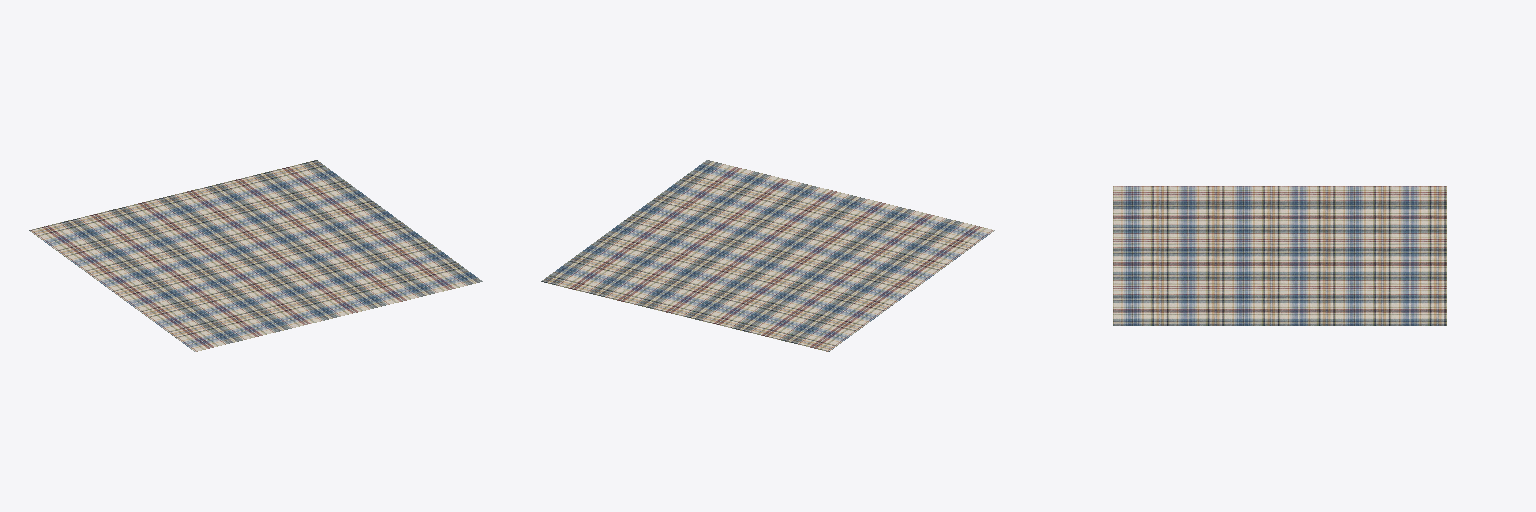
3 renders of one model, left to right at view 1: azimuth 30°, elevation 25°; view 2: azimuth 150°, elevation 25°; view 3: azimuth 270°, elevation 25°, orthographic.
Parts seen in each view (by area): view 1: Grid; view 2: Grid; view 3: Grid.
Boxes of the visible parts, <box> form: Grid: <box>29,160,482,351</box>; Grid: <box>541,160,994,351</box>; Grid: <box>1113,186,1446,325</box>.
Size of the model in its own units: 6 by 0 by 6.
Materials: 1 (1 with a texture image).